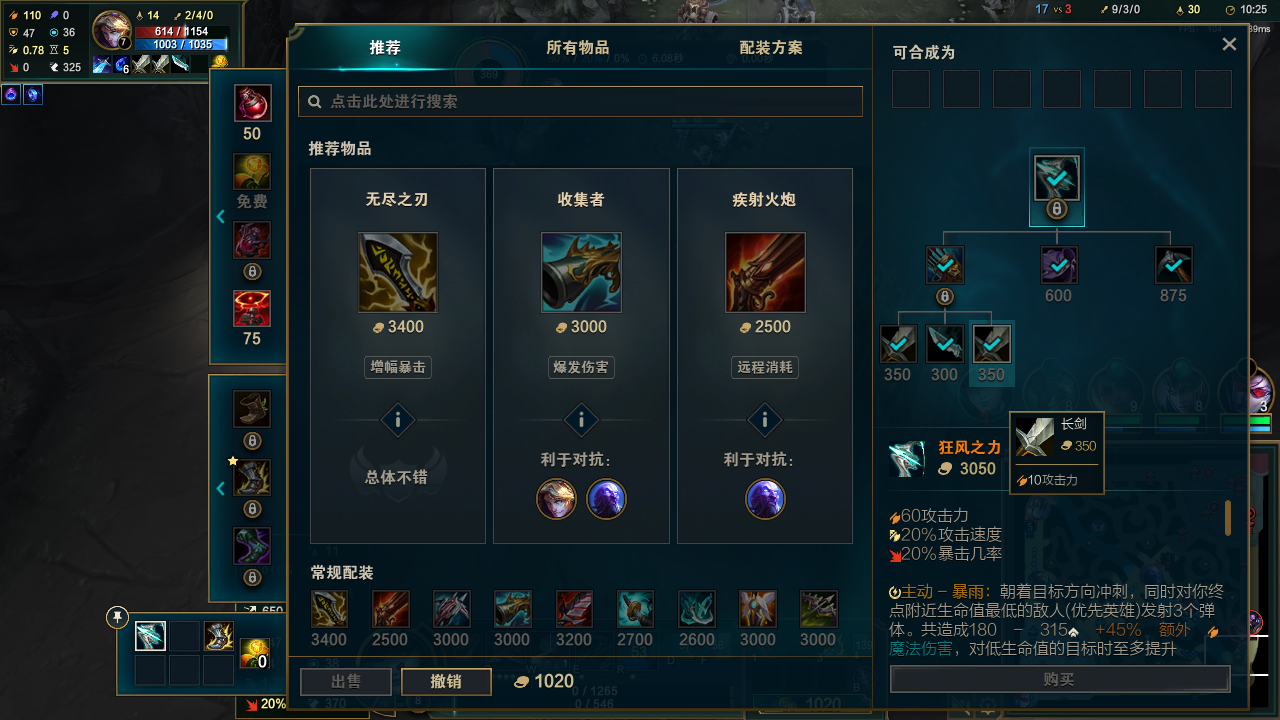GTH: (732, 397, 788, 438), (562, 402, 597, 435), (382, 405, 421, 434)
TJJM: (331, 30, 440, 76)
